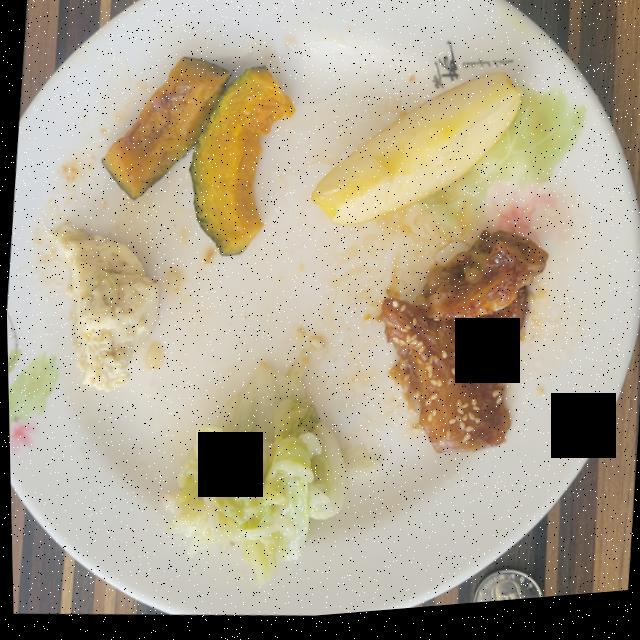Kabayaki sea bream fillet: (378, 239, 546, 459)
apple -sliced-: (311, 80, 522, 231)
cabbage: (162, 356, 345, 588)
coin: (471, 578, 539, 611)
pumpkin: (102, 60, 293, 259)
